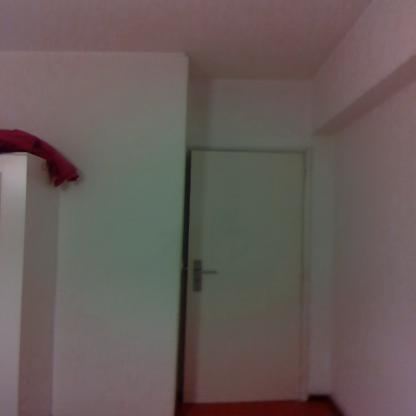door: (188, 151, 302, 402)
hinged: (300, 164, 308, 180), (300, 268, 306, 283), (300, 369, 304, 387)
lever: (195, 270, 218, 275)
